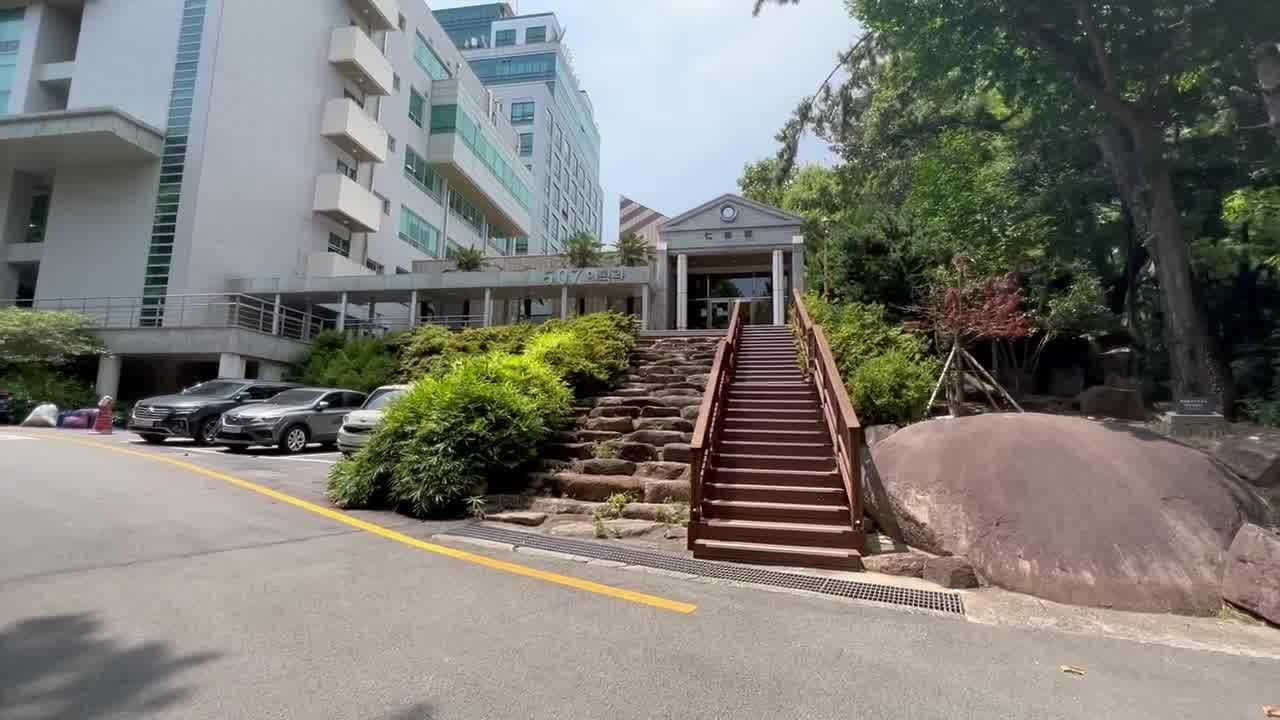building: (430, 204, 851, 541)
